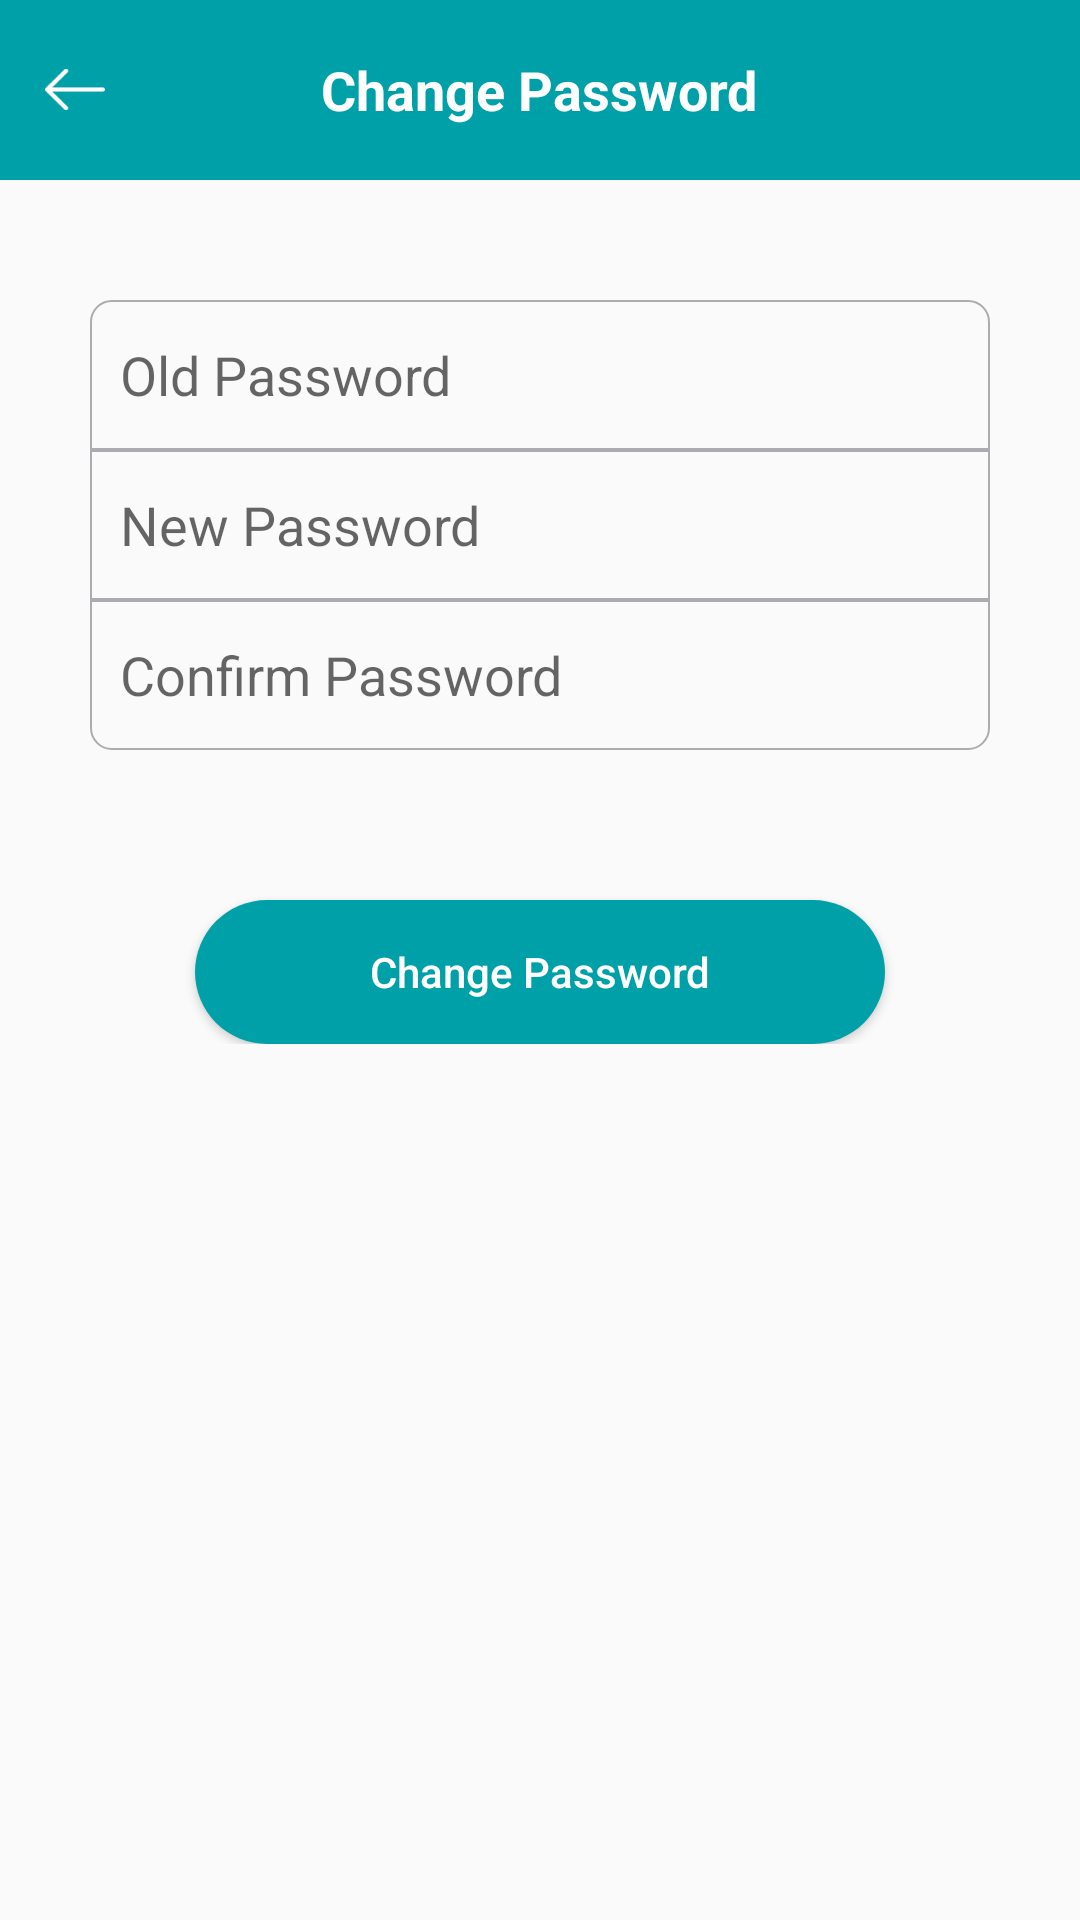

Icon bounding boxes for this 1080×1920 phone screenshot, format region(x1, y1, x2, y2):
back: region(45, 69, 105, 110)
